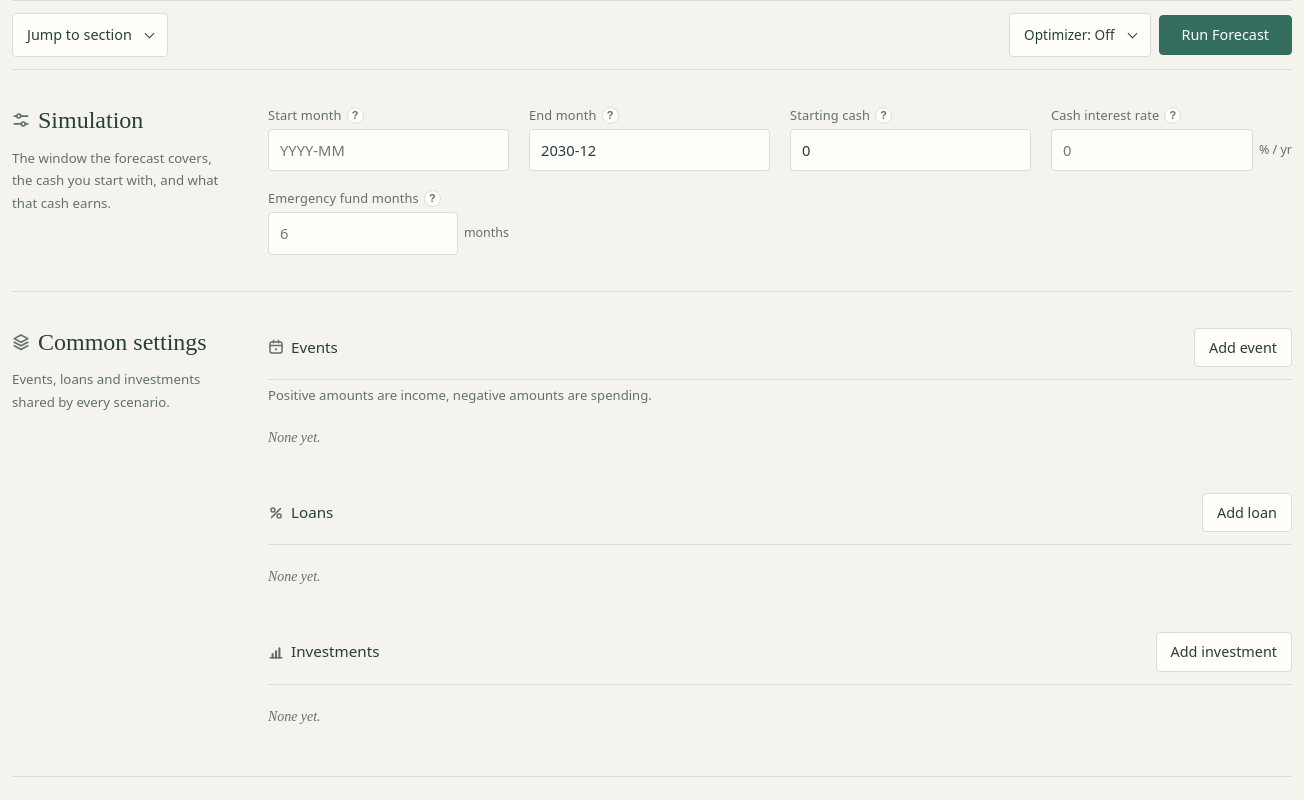
Scenario: finding optimized events › reports that nothing uses the optimizer
What coordinates should you click on to do the following:
click the button "Optimizer: Off"
I would click on:
 (1080, 35)
Its box is [1009, 13, 1150, 57].
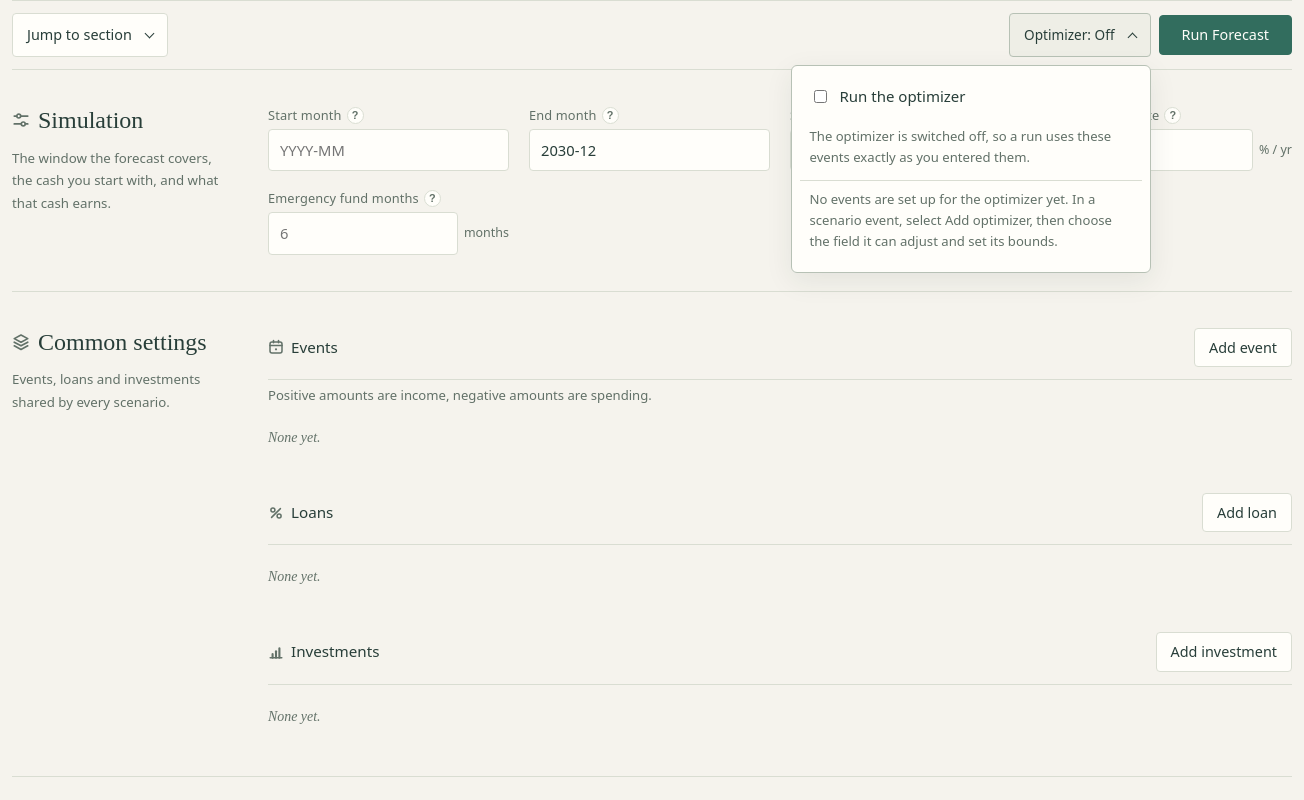
Now the element with class "optctl__panel" shows "No events are set up", box [810, 190, 1112, 250]
Now the element with class "optctl__panel" shows "Add optimizer", box [810, 190, 1112, 250]
